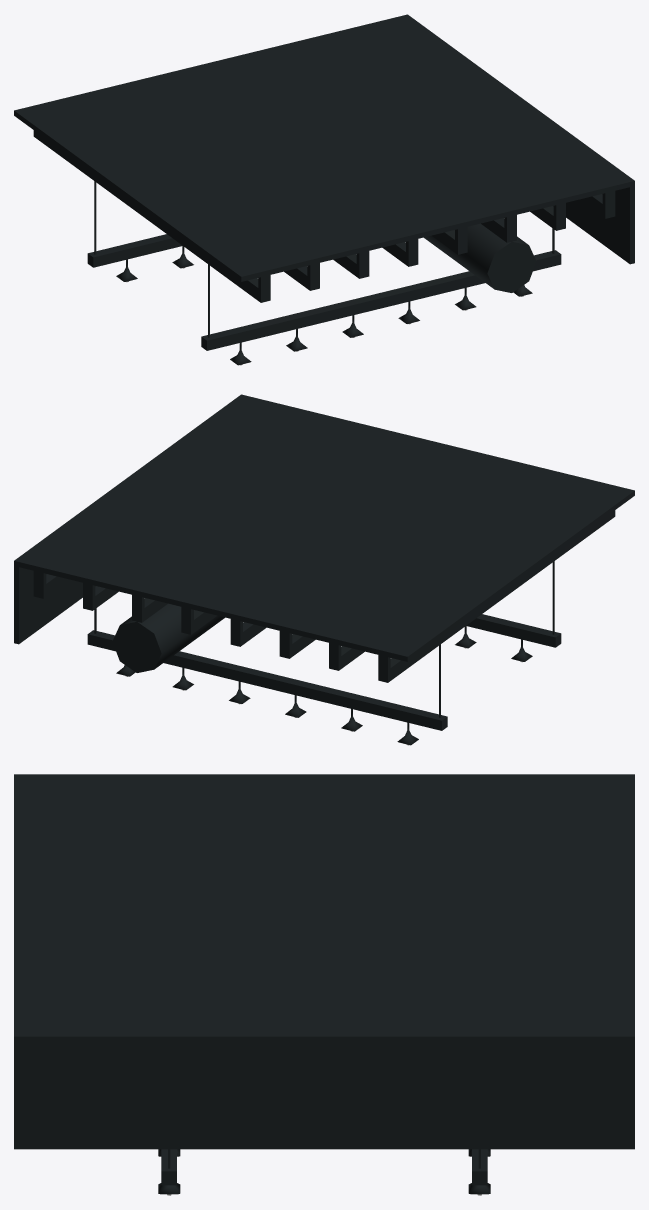
The model's file is Roof_Side_Lights.glb.
The picture shows the model from 3 angles, top to bottom: view 1: azimuth 30°, elevation 25°; view 2: azimuth 150°, elevation 25°; view 3: azimuth 270°, elevation 25°; orthographic projection. The views are drawn at different scales.
Parts seen in each view (by area): view 1: Roof_Side_Lights; view 2: Roof_Side_Lights; view 3: Roof_Side_Lights.
Part boxes in pixels (left/top/right/bottom): Roof_Side_Lights: left=14, top=14, right=634, bottom=365; Roof_Side_Lights: left=14, top=394, right=634, bottom=745; Roof_Side_Lights: left=14, top=774, right=634, bottom=1195.
Bounding box in the file's own units: 8 × 2.79 × 8.
Materials: 1 (1 with a texture image).
